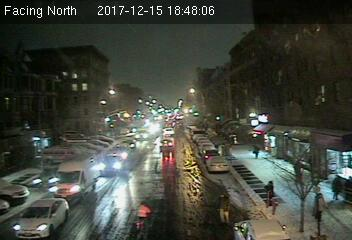bicycle: (133, 201, 160, 235)
car: (50, 154, 97, 202), (11, 198, 67, 237), (233, 216, 293, 239), (97, 155, 123, 174), (206, 156, 229, 173), (159, 138, 173, 148)
pedestrian: (312, 189, 324, 223), (331, 173, 342, 205)
